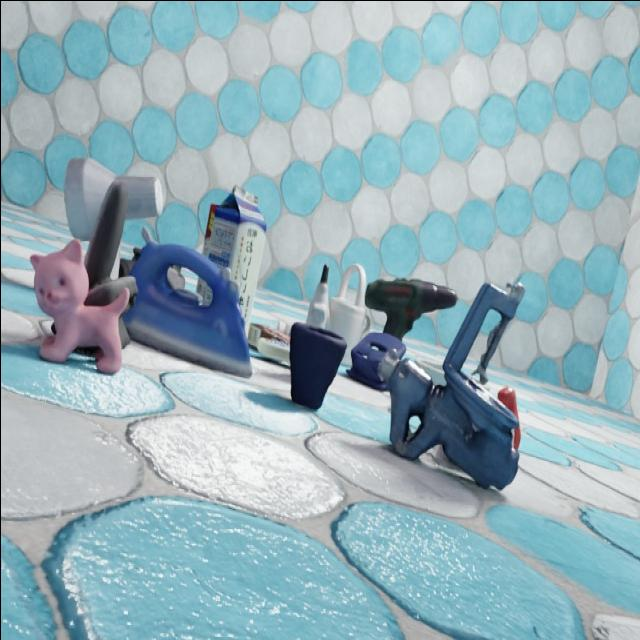Other Objects: (382, 283, 522, 488), (30, 239, 129, 372), (365, 277, 457, 337), (290, 321, 346, 408), (327, 263, 370, 360), (347, 331, 405, 388), (306, 264, 328, 325)
